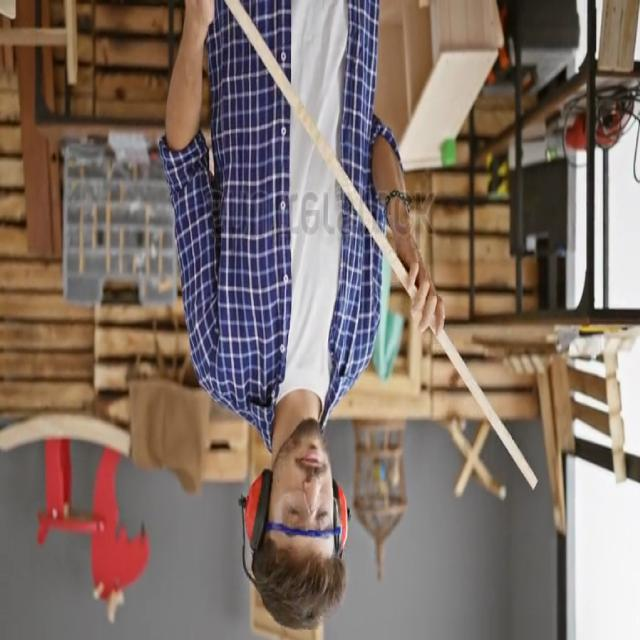goggles: (264, 491, 335, 539)
